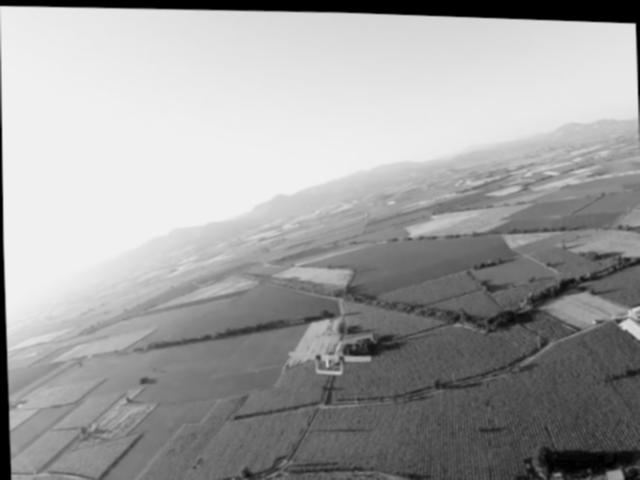hedef: (280, 341, 374, 379)
